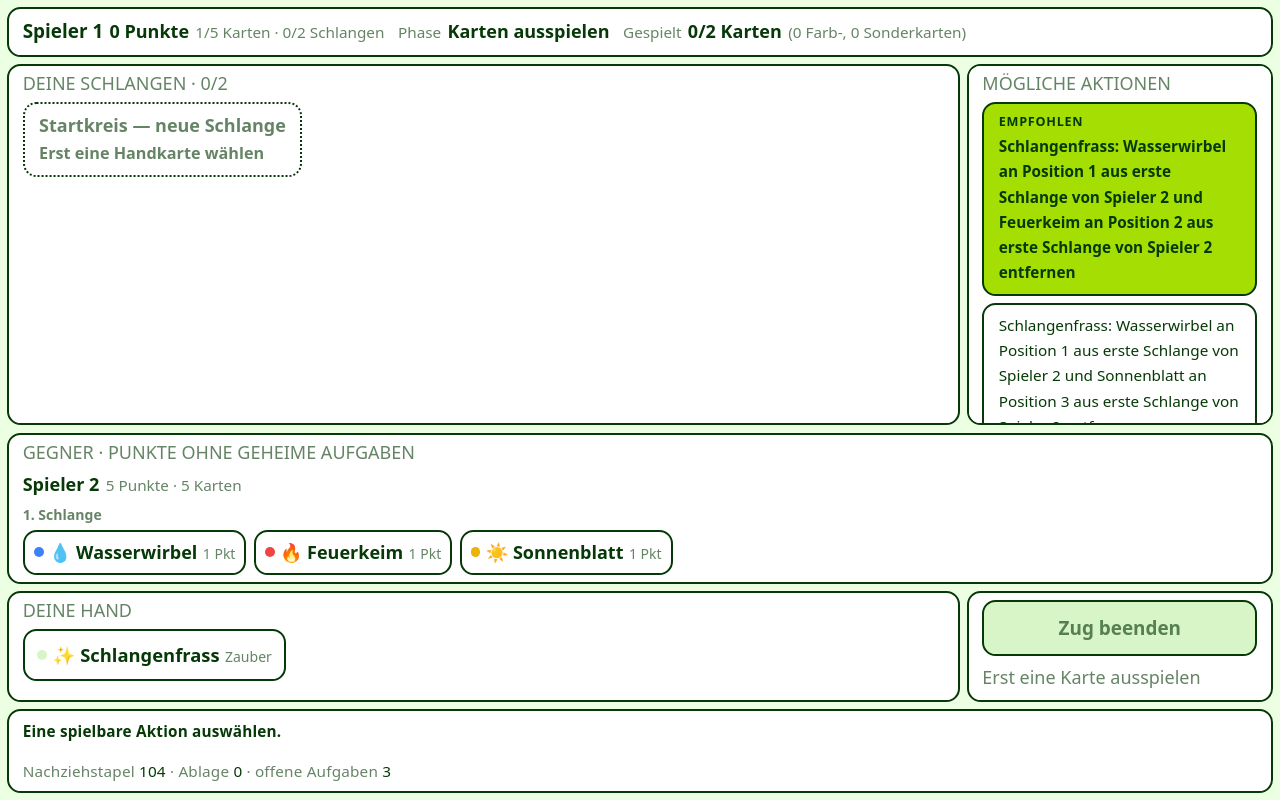
Test: Sonderkarten über Brettziele › verlangt beim Frass gegen Gegner zwei Klicks und sagt das auch
Click the button "✨ Schlangenfrass Zauber" at point(155, 655), box left=23, top=629, right=286, bottom=681
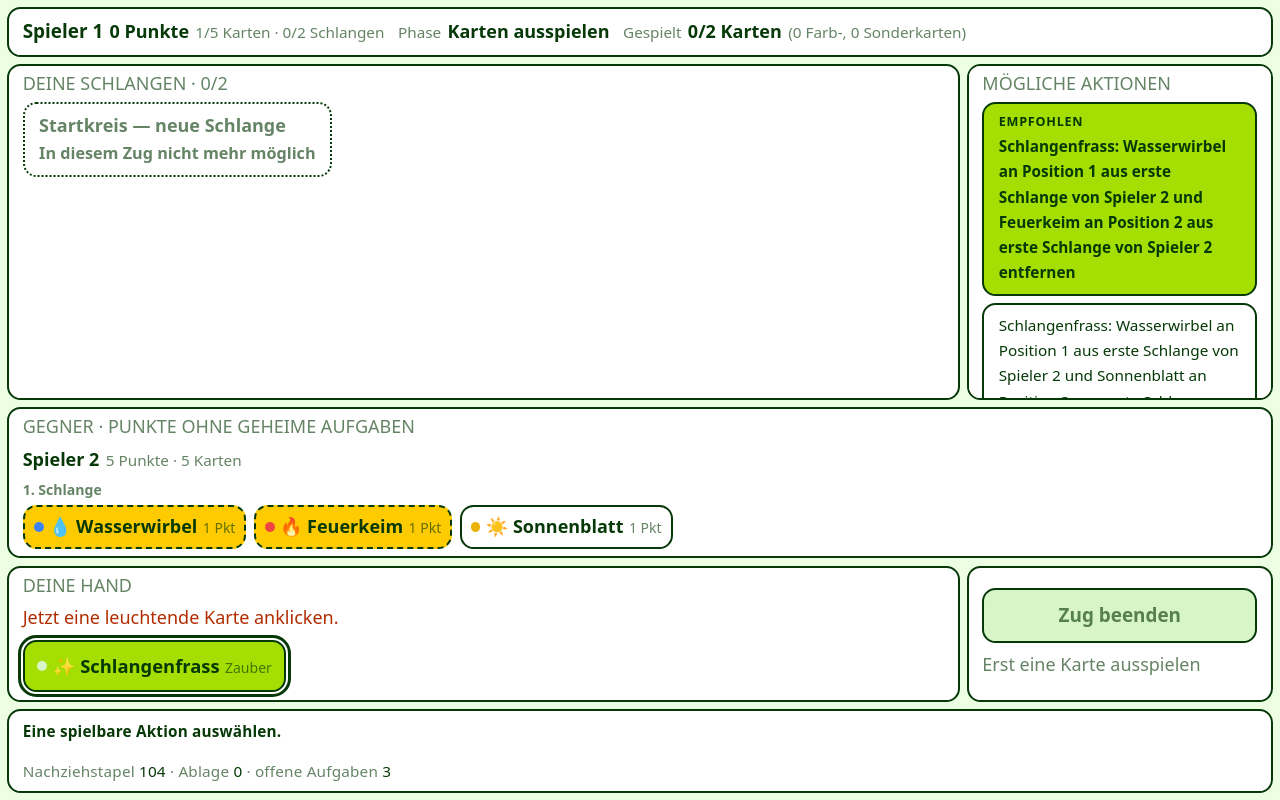
Click the button "💧 Wasserwirbel 1 Pkt" at point(135, 527), box left=23, top=505, right=246, bottom=549
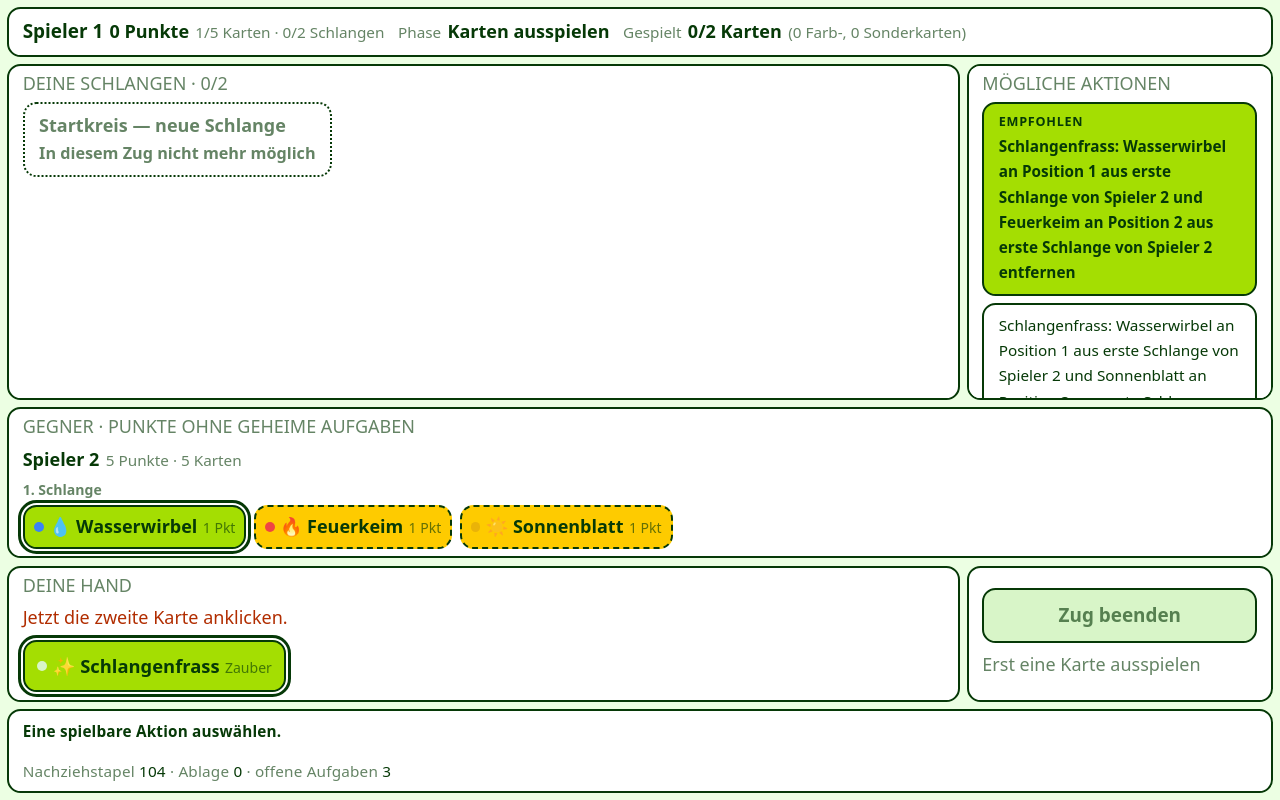
Check: the element "Deine Hand" shows "zweite Karte", box left=23, top=605, right=288, bottom=629
